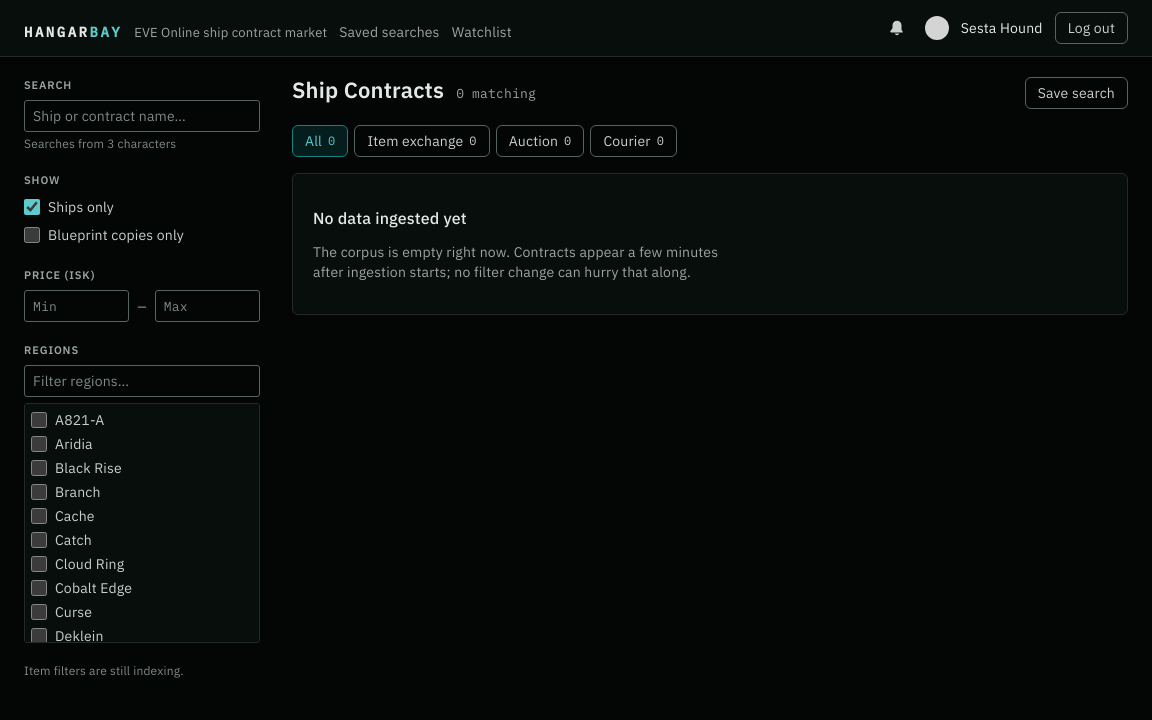
Test: HeaderIdentity › logs out and returns to anonymous
Click the button "Log out": x=1091, y=28 left=1055, top=12, right=1128, bottom=44
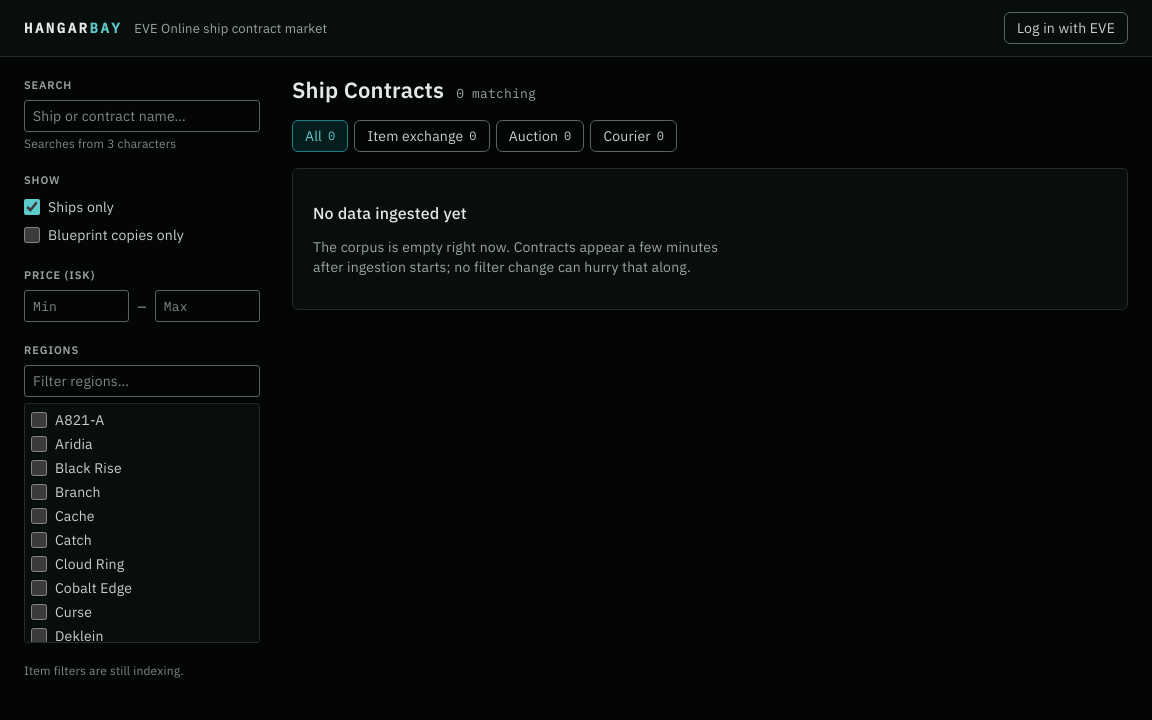
expect the link "Log in with EVE" is shown: met, box left=1004, top=12, right=1128, bottom=44
